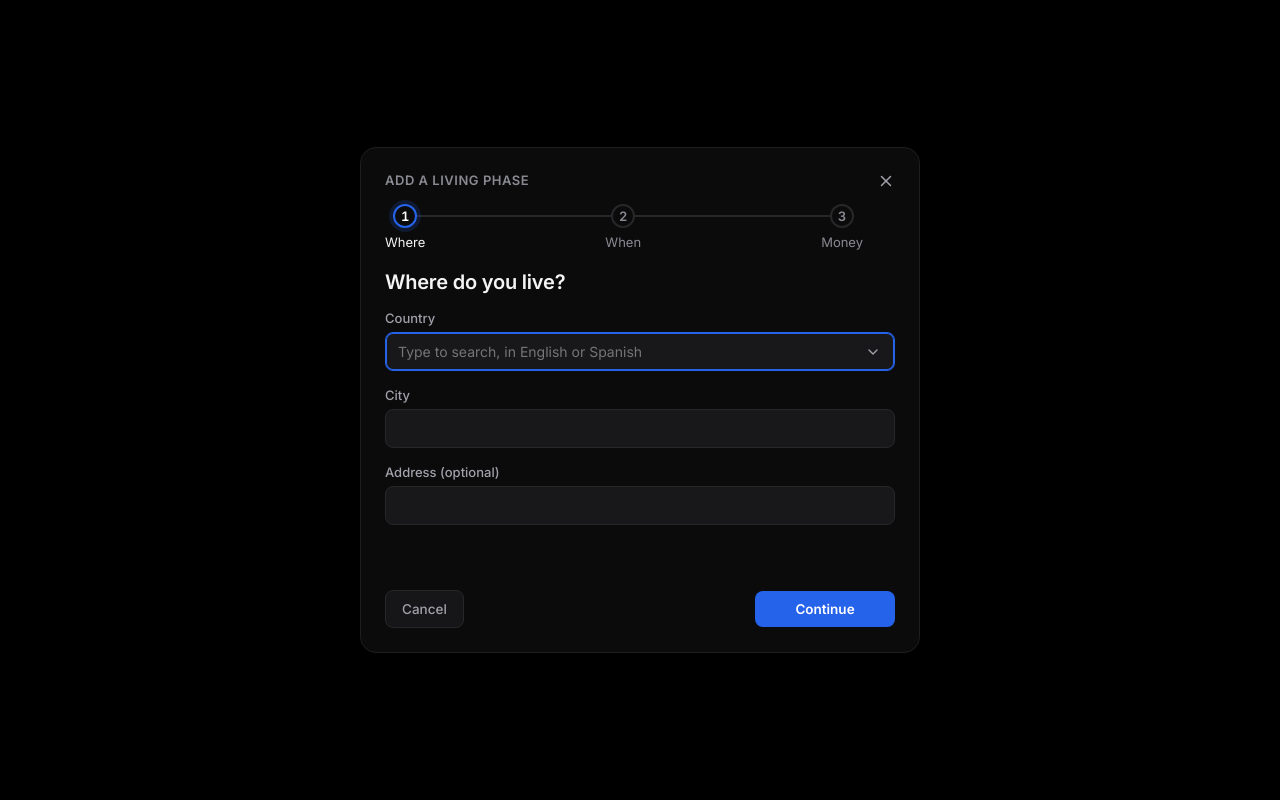
Test: PhaseWizard › confirms each answer with a checkmark once it passes
Type "port" into the dropdown labelled "Country".
click(640, 352); type("port")  # box [385,332,895,371]
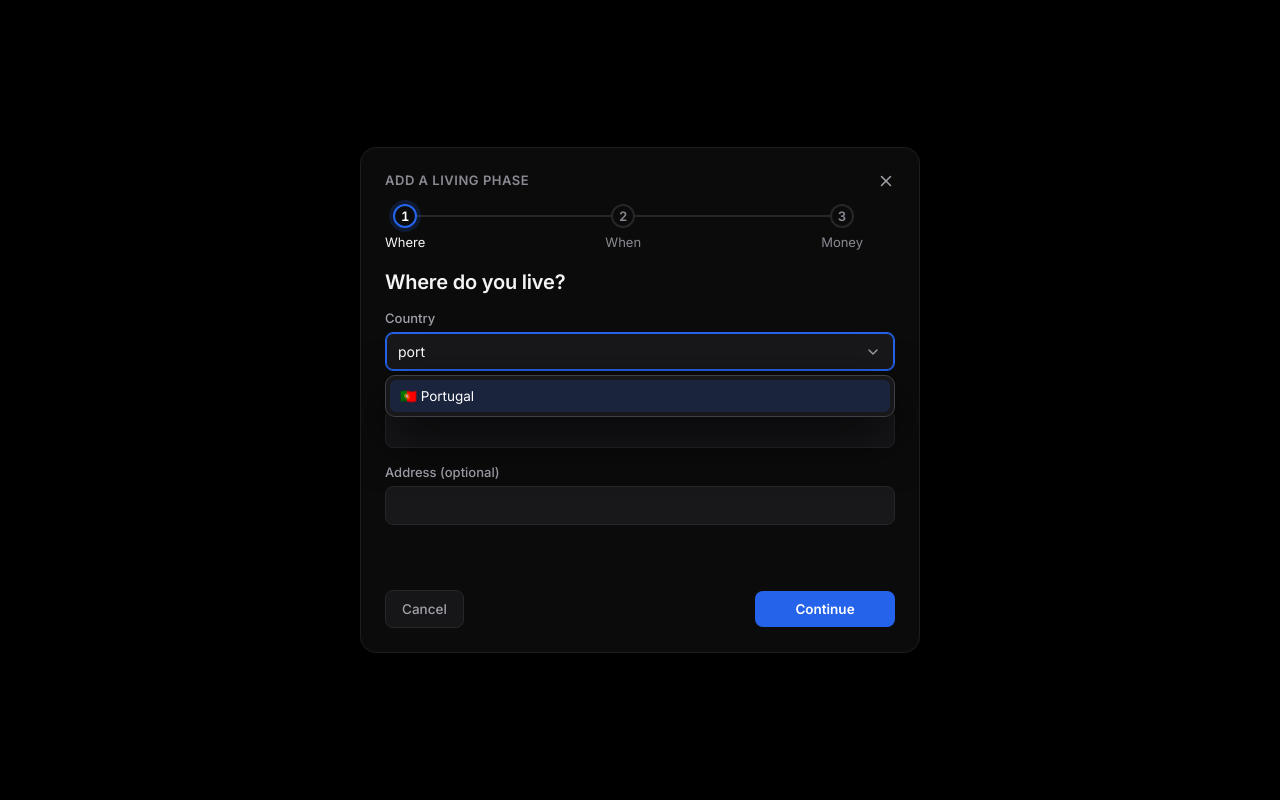
Click the option "🇵🇹 Portugal".
click(447, 396)  # box [390,380,890,412]
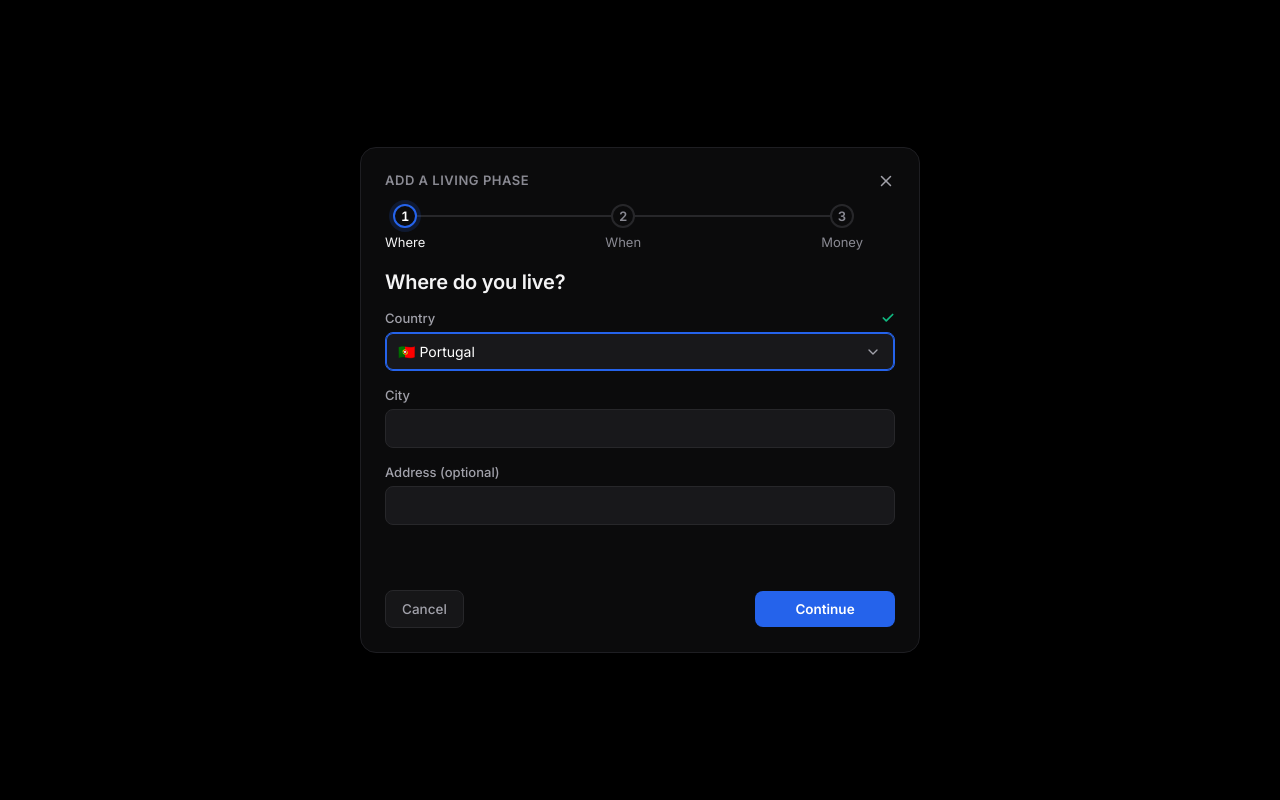
Type "Lisbon" into the field labelled "City".
click(640, 428); type("Lisbon")  # box [385,409,895,448]
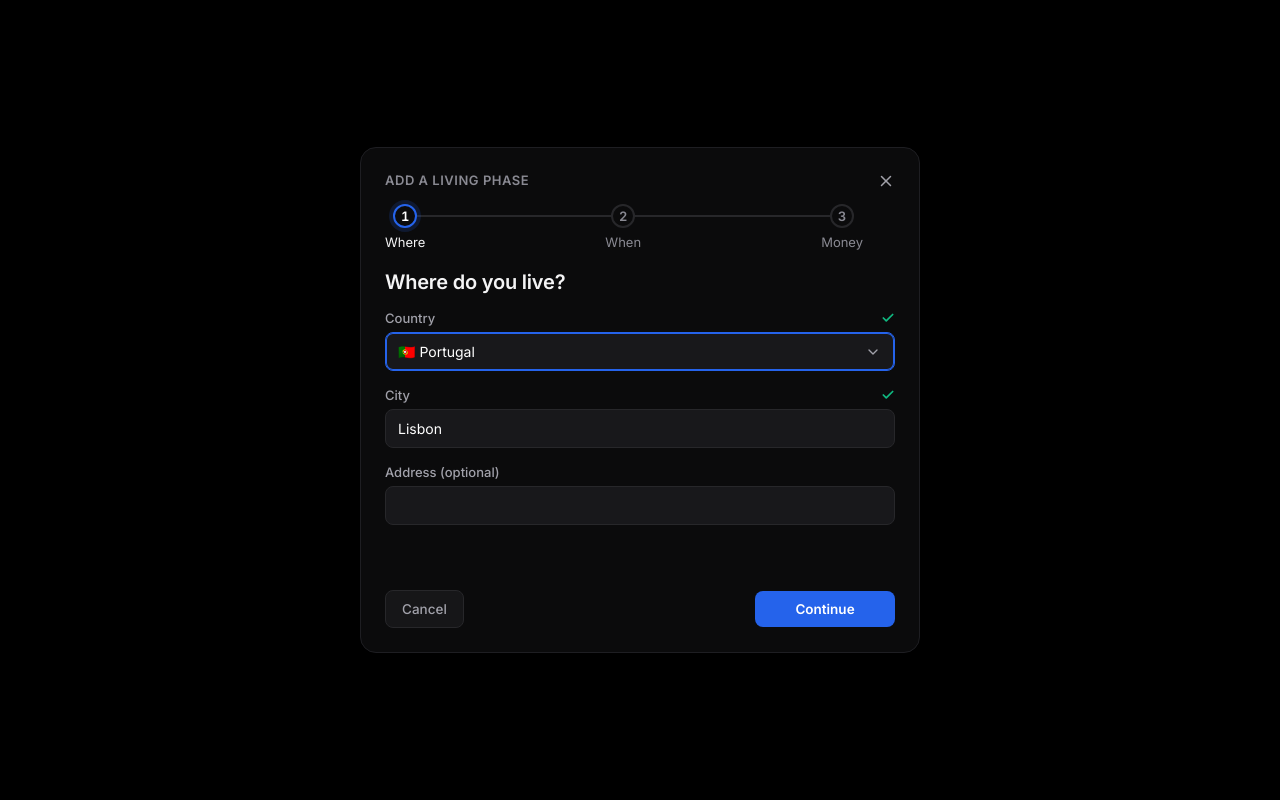
Result: the number of icons with class "wizard-field__check" is 2 at [881,311,895,325]; [881,388,895,402]
